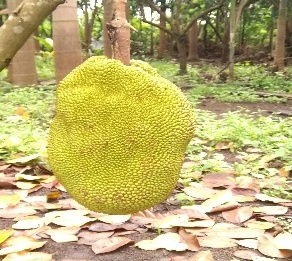Mit: (46, 57, 195, 216)
